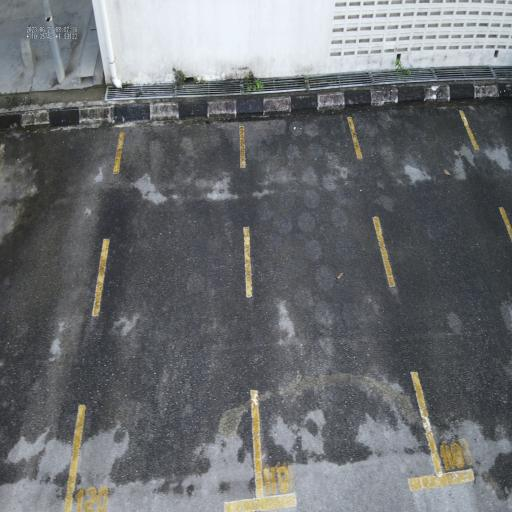Empty: (238, 102, 454, 509), (57, 109, 265, 512)
